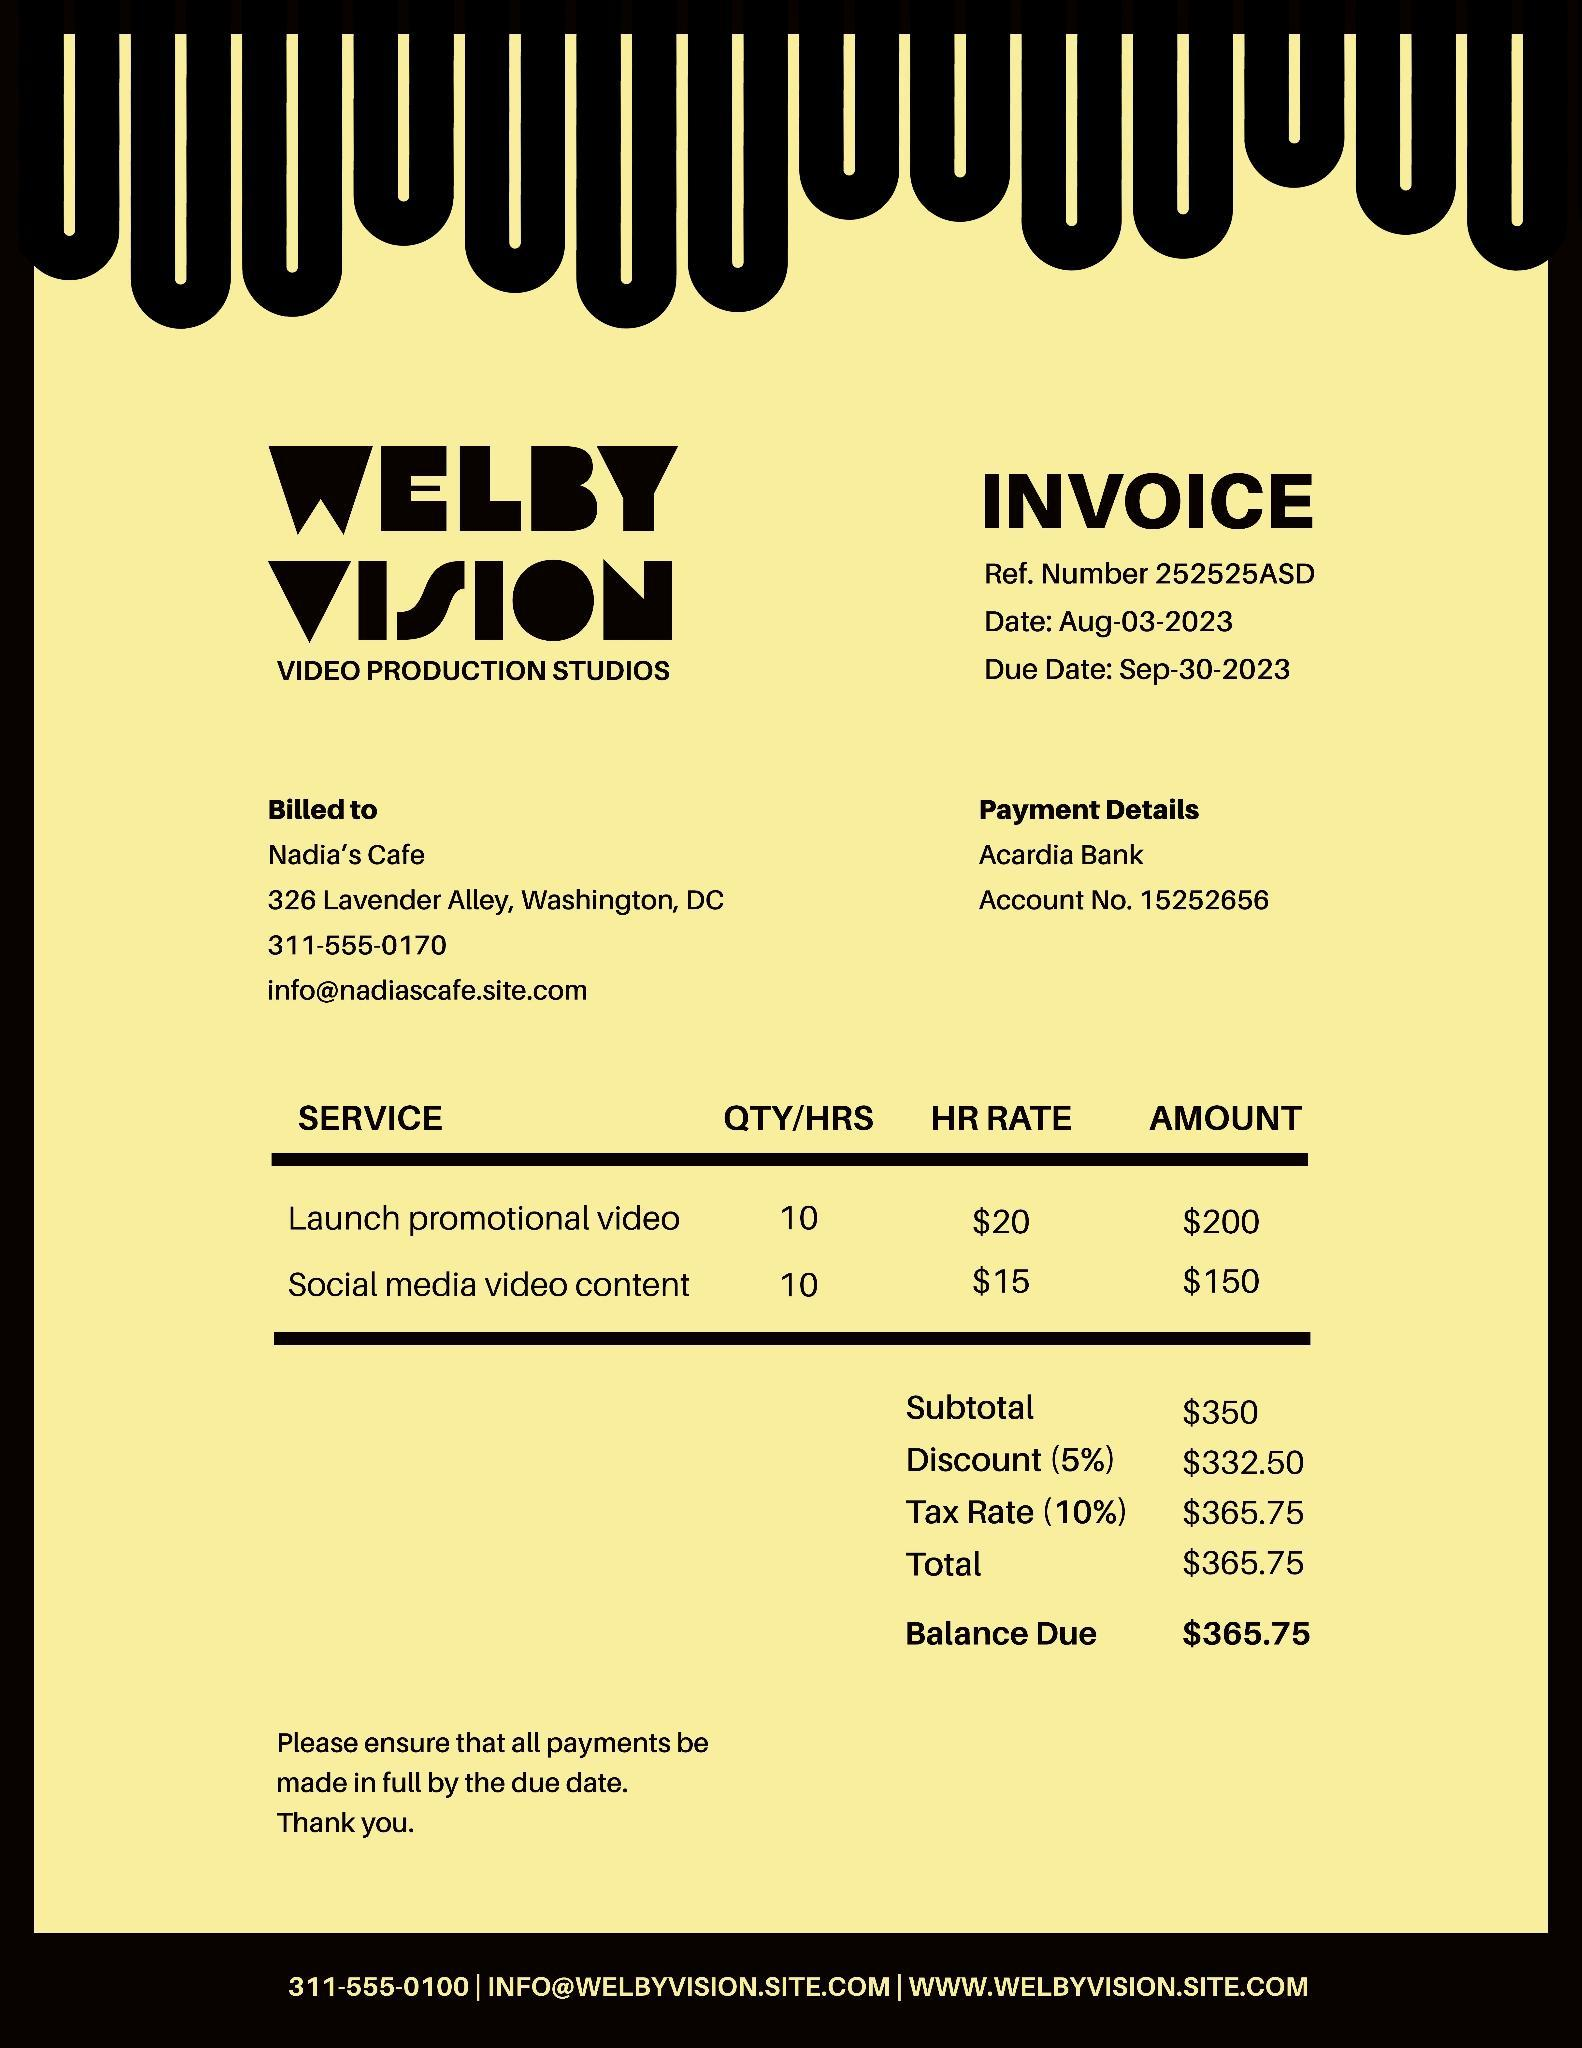ROI: (248, 1056, 1346, 1355), (887, 1379, 1339, 1669), (239, 434, 703, 704), (253, 782, 738, 1022), (269, 1694, 730, 1855), (972, 551, 1344, 719), (974, 781, 1286, 935), (931, 447, 1408, 541)
